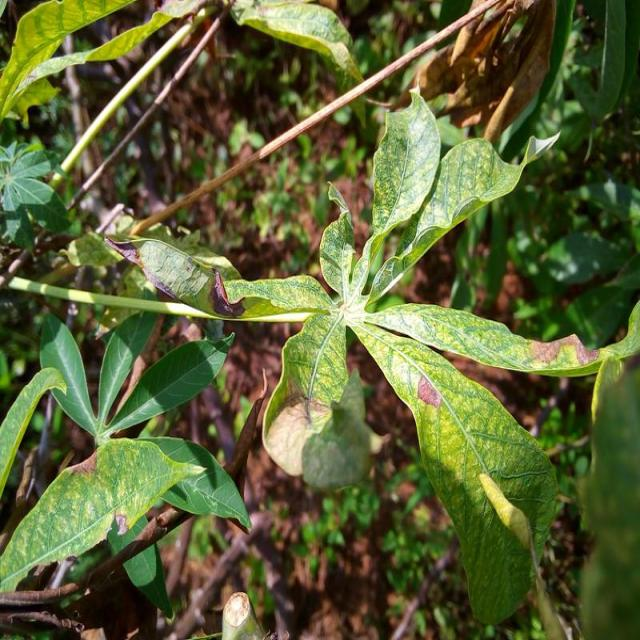cassava leaf: (97, 82, 634, 625), (351, 317, 559, 625), (0, 435, 208, 594)
